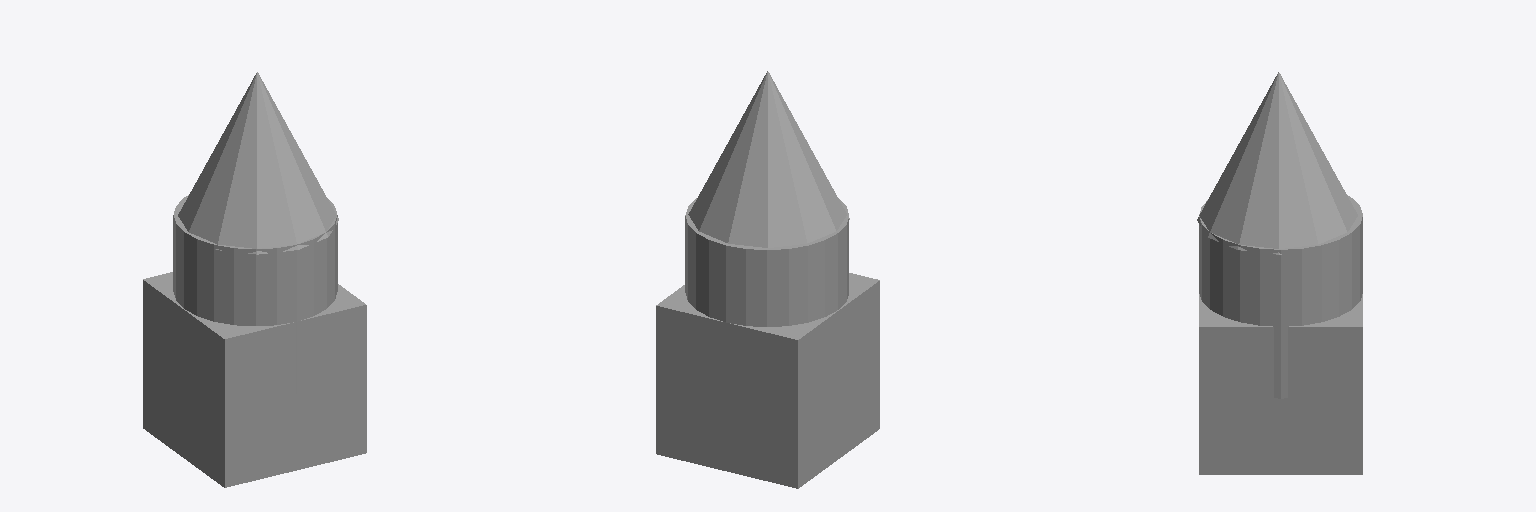
The model's file is clara.obj.
3 views of the same model, side by side, from view 1: azimuth 30°, elevation 25°; view 2: azimuth 150°, elevation 25°; view 3: azimuth 270°, elevation 25° (orthographic).
Visible parts, largest first — view 1: Box, Cone1, Cylinder; view 2: Box, Cone1, Cylinder; view 3: Box, Cone1, Cylinder.
Boxes of the visible parts, box(x1,y1,x2,y2) form: Box: box(143, 272, 366, 487); Cone1: box(178, 72, 338, 254); Cylinder: box(173, 195, 337, 393); Box: box(656, 273, 879, 488); Cone1: box(688, 71, 849, 247); Cylinder: box(685, 198, 848, 326); Box: box(1199, 294, 1362, 474); Cone1: box(1197, 72, 1357, 254); Cylinder: box(1199, 195, 1362, 398).
Bounding box in the file's own units: 1.01 × 2.49 × 1.01.